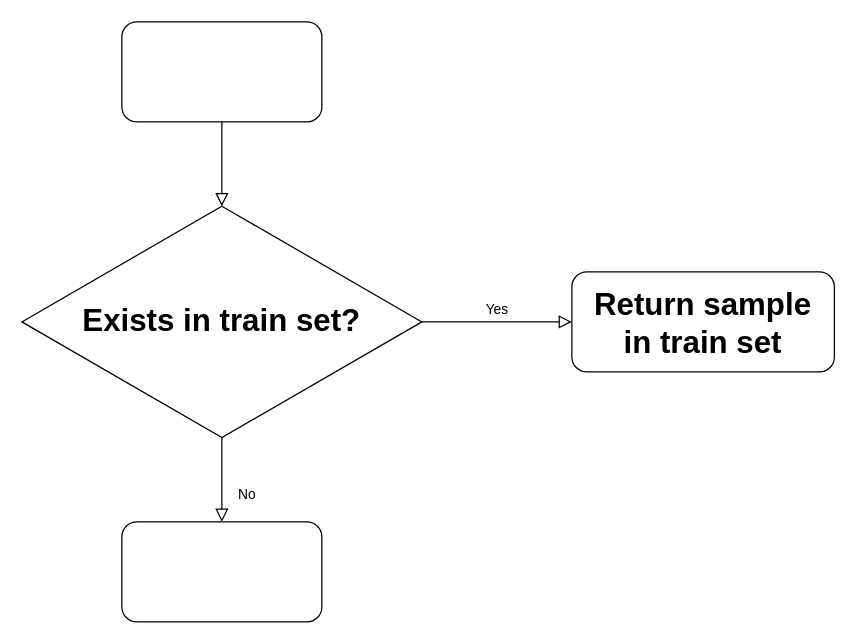
This 856x644 diagram has some shape labels left out. Each missing label, with the centre of its shape:
"No return" goes at point (221, 571).
"Sample" goes at point (221, 71).
